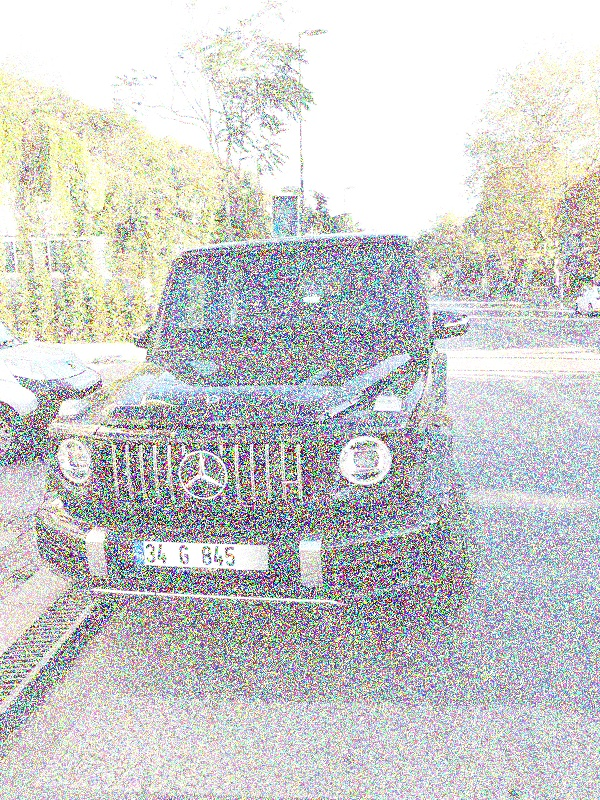plaka: (134, 535, 249, 573)
